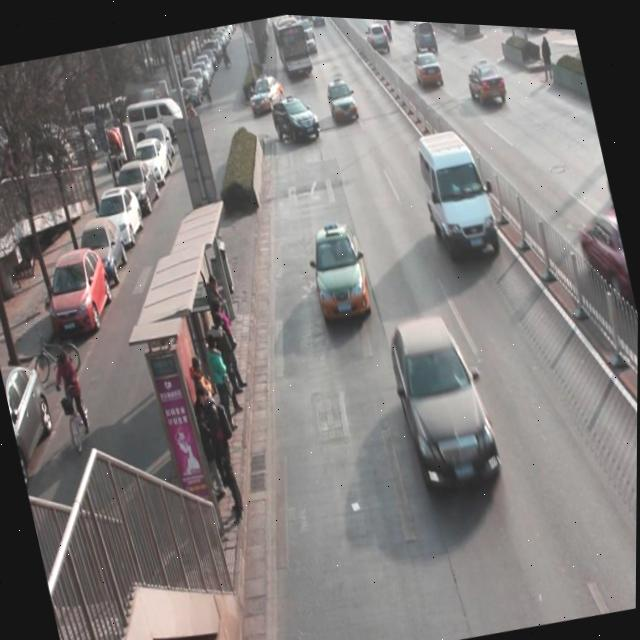car: (385, 307, 508, 492), (307, 214, 373, 316), (582, 203, 634, 297), (271, 91, 321, 144), (464, 50, 511, 105), (324, 71, 359, 119), (248, 68, 286, 112), (410, 43, 446, 85), (410, 17, 440, 47), (365, 16, 391, 50), (372, 15, 396, 41), (301, 22, 318, 51)
truck: (411, 120, 507, 263)
